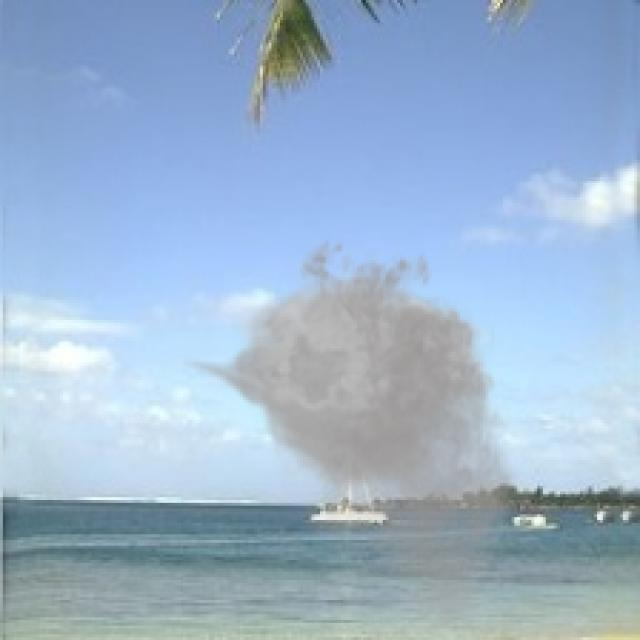smoke: (180, 226, 531, 634)
